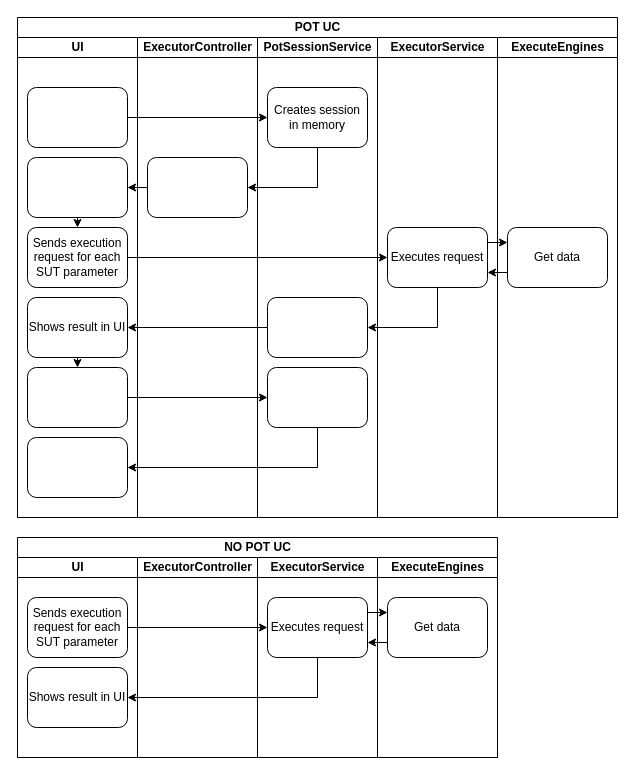
The diagram is 635 pixels wide and 775 high, and some of its shapes have lost their labels. The shapes that lost their labels are listed below. From the top down, each one's centre as x and y in pixels, then its label:
At (x=77, y=117): "Sends request to create new session".
At (x=77, y=187): "Stores session. It will be added to each execution request.".
At (x=197, y=187): "Returns UUID of session".
At (x=317, y=327): "Stores result in memory".
At (x=77, y=397): "Sends request to generate POT".
At (x=317, y=397): "Generate POT for session. Finalizes session".
At (x=77, y=467): "Provides download link".
